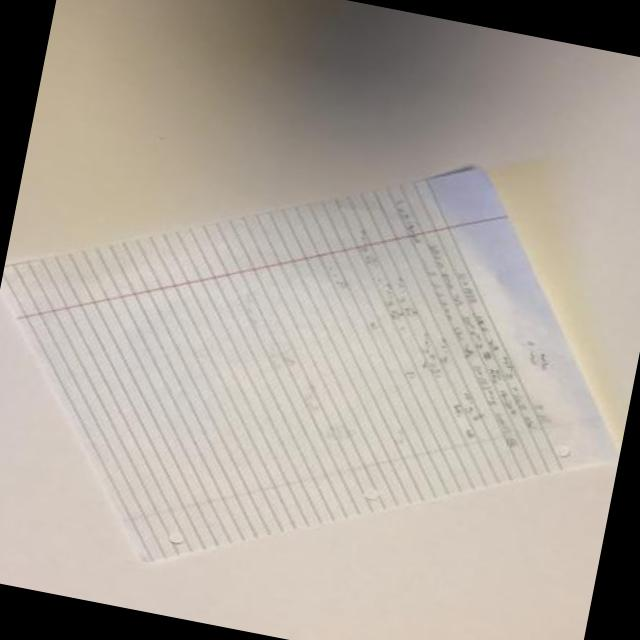paper: (86, 96, 590, 619)
